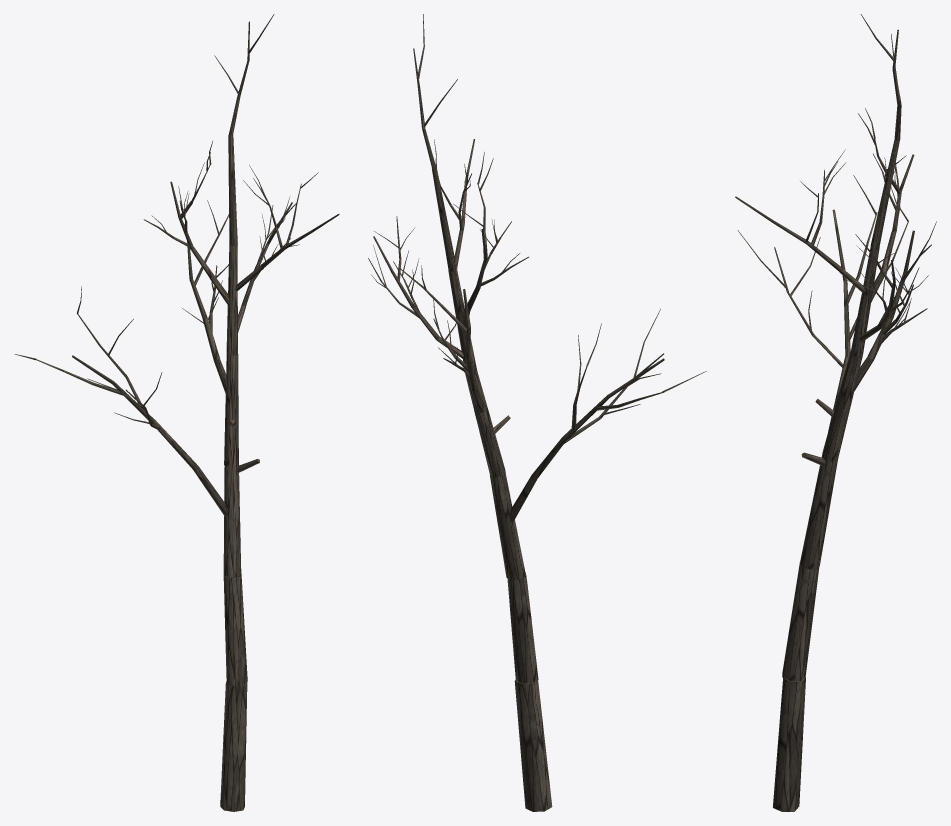
Rendered from S7U_Tree_Full_D.fbx.
The picture shows the model from 3 angles, left to right: view 1: azimuth 30°, elevation 25°; view 2: azimuth 150°, elevation 25°; view 3: azimuth 270°, elevation 25°; orthographic projection. The views are drawn at different scales.
Parts seen in each view (by area): view 1: S7U_Tree_Full_D; view 2: S7U_Tree_Full_D; view 3: S7U_Tree_Full_D.
Part boxes in pixels (bbox=[...]): S7U_Tree_Full_D: bbox=[14, 14, 339, 811]; S7U_Tree_Full_D: bbox=[368, 14, 706, 811]; S7U_Tree_Full_D: bbox=[735, 14, 936, 811].
Size of the model in its own units: 5.03 by 12.21 by 2.68.
